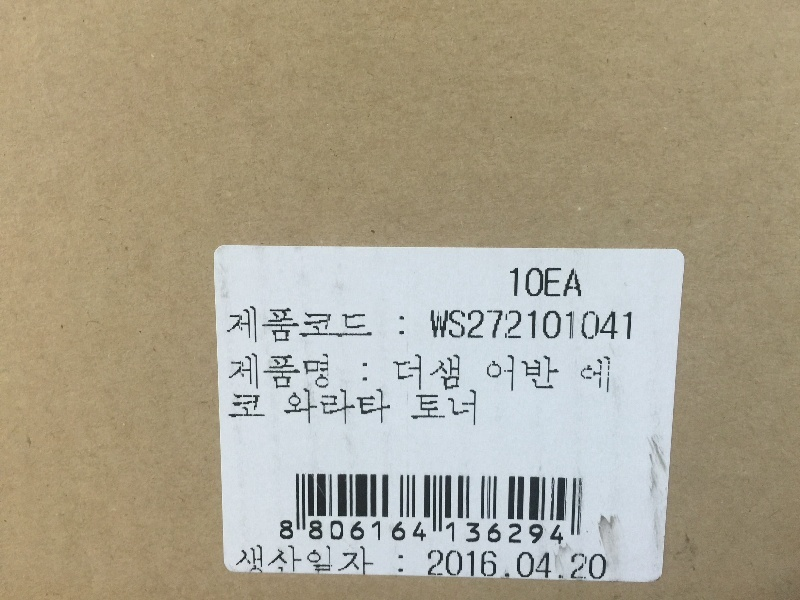text: (241, 304, 256, 345), (257, 304, 272, 345), (273, 304, 288, 345), (289, 304, 304, 345), (305, 304, 320, 345), (321, 304, 336, 345), (337, 304, 352, 345), (353, 304, 368, 345), (369, 304, 384, 345), (385, 304, 400, 345), (353, 353, 369, 391), (401, 352, 416, 392), (417, 352, 432, 392), (433, 352, 448, 392), (497, 354, 512, 394), (513, 354, 528, 394), (529, 354, 544, 394), (545, 354, 560, 394), (561, 354, 576, 394), (577, 354, 592, 394), (593, 354, 608, 394), (289, 388, 304, 427), (305, 388, 320, 427), (321, 388, 336, 427), (337, 388, 352, 427), (353, 388, 368, 427), (369, 388, 384, 427), (417, 389, 432, 427), (433, 389, 448, 427), (449, 389, 464, 427), (241, 353, 256, 391), (257, 353, 272, 391), (273, 353, 288, 391), (289, 353, 304, 391), (305, 353, 320, 391), (321, 353, 336, 391), (337, 353, 352, 391), (433, 547, 448, 584), (449, 547, 464, 584), (465, 547, 480, 584), (481, 547, 496, 584), (497, 547, 512, 584), (513, 547, 528, 584), (529, 547, 544, 584), (545, 547, 560, 584), (561, 547, 576, 584), (577, 547, 592, 584), (593, 547, 608, 584), (241, 544, 256, 579), (257, 544, 272, 579), (273, 544, 288, 579), (289, 544, 304, 579), (305, 544, 320, 579), (321, 544, 336, 579), (337, 544, 352, 579), (353, 544, 368, 579), (369, 544, 384, 579), (385, 544, 400, 579), (433, 309, 448, 344), (449, 309, 464, 344), (465, 309, 480, 344), (481, 309, 496, 344), (497, 309, 512, 344), (513, 309, 528, 344), (529, 309, 544, 344), (545, 309, 560, 344), (561, 309, 576, 344), (577, 309, 592, 344), (593, 309, 608, 344), (609, 309, 624, 344), (513, 266, 528, 299), (529, 266, 544, 299), (545, 266, 560, 299), (561, 266, 576, 299), (465, 389, 478, 427), (228, 304, 240, 345), (449, 352, 461, 392), (289, 520, 304, 547), (305, 520, 320, 547), (321, 520, 336, 547), (337, 520, 352, 547), (353, 520, 368, 547), (369, 520, 384, 547), (385, 520, 400, 547), (401, 520, 416, 547), (417, 520, 432, 547), (433, 520, 448, 547), (449, 520, 464, 547), (465, 520, 480, 547), (481, 520, 496, 547), (497, 520, 512, 547), (513, 520, 528, 547), (529, 520, 544, 547), (545, 520, 560, 547), (241, 393, 256, 420), (487, 354, 496, 394), (231, 353, 240, 391), (392, 352, 400, 392), (625, 309, 634, 344), (257, 393, 268, 420), (385, 388, 392, 427), (279, 520, 288, 547), (577, 266, 584, 299), (233, 393, 240, 420), (401, 304, 405, 345), (428, 547, 432, 584), (401, 544, 405, 579), (609, 354, 612, 394), (429, 309, 432, 344), (509, 266, 512, 299), (561, 520, 564, 547), (415, 389, 416, 427)
